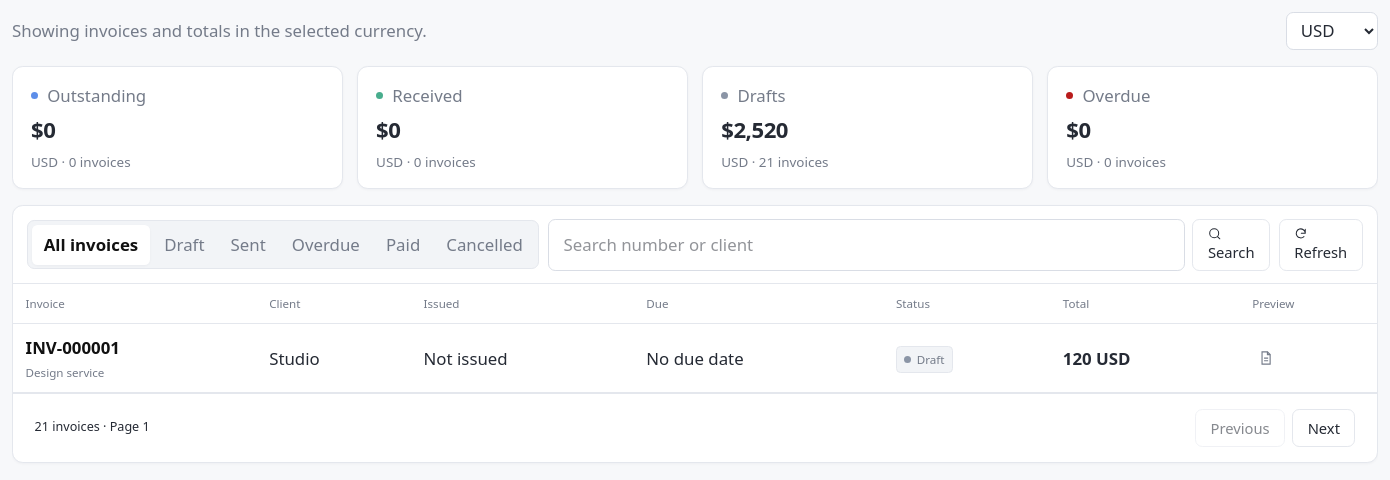
Test: paginates invoice rows while keeping the workspace summary
Expected: the button "INV-000001" is shown, [26,335,120,360]
Expected: the text "$2,520" is shown, [721,114,788,144]
Click the button "Next" at (1324, 428), box [1292,409,1356,447]
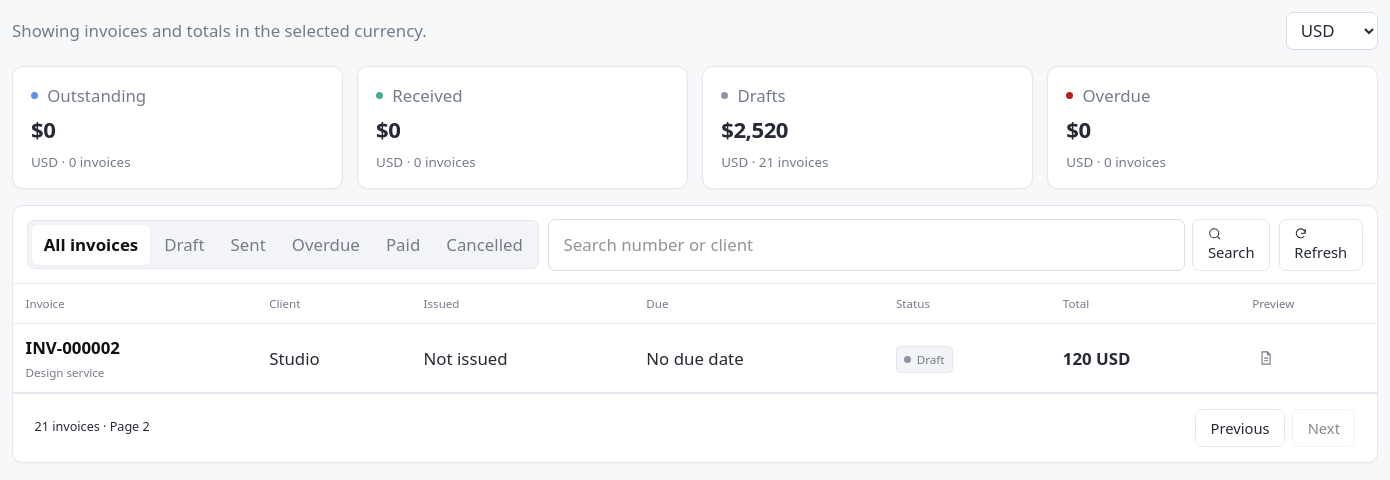
Expected: the text "$2,520" is shown, [721,114,788,144]
Expected: the button "INV-000002" is shown, [26,335,120,360]
Expected: the button "INV-000001" is gone
